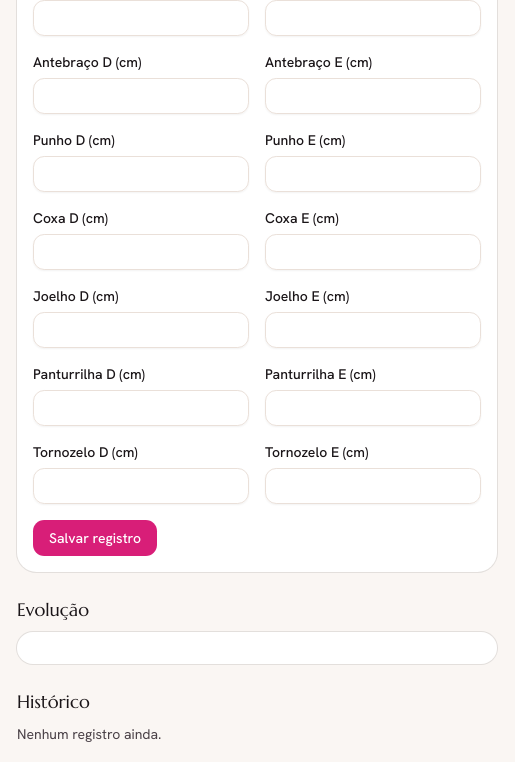
Scenario: MedidasPage › mostra a mensagem real do erro (ex.: faixa de validação), sem dar refresh
(page scrolled)
Click the button "Salvar registro" at {"x": 95, "y": 538}, box [33, 520, 157, 556]
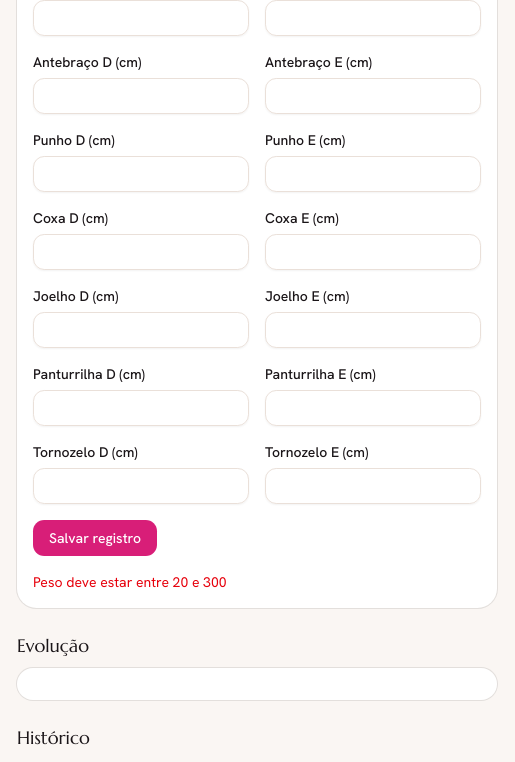
Result: the message reads "Peso deve estar entre 20 e 300" at [33, 573, 227, 591]
